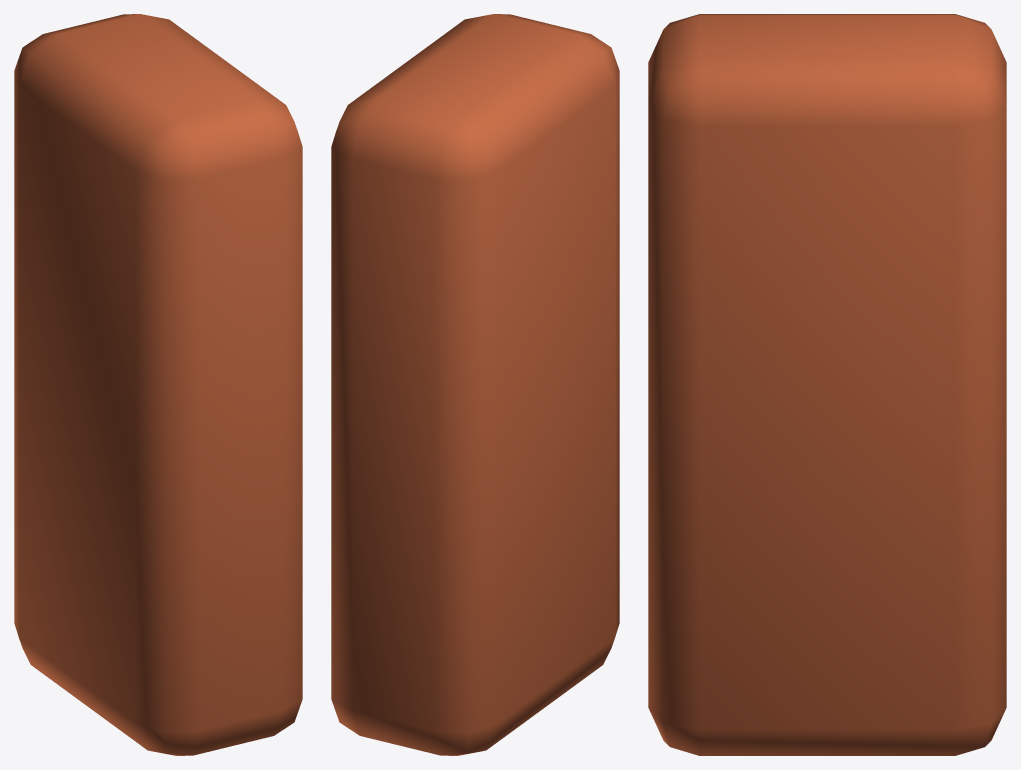
File: manual_spot_welding_gun_trigger.glb
The picture shows the model from 3 angles, left to right: view 1: azimuth 30°, elevation 25°; view 2: azimuth 150°, elevation 25°; view 3: azimuth 270°, elevation 25°; orthographic projection. The views are drawn at different scales.
Parts seen in each view (by area): view 1: manual_spot_welding_gun_trigger; view 2: manual_spot_welding_gun_trigger; view 3: manual_spot_welding_gun_trigger.
Part boxes in pixels (x1,y1,x2,y2): manual_spot_welding_gun_trigger: [14, 14, 302, 755]; manual_spot_welding_gun_trigger: [331, 14, 619, 755]; manual_spot_welding_gun_trigger: [648, 14, 1006, 755].
Bounding box in the file's own units: 0.008 × 0.03 × 0.014.
